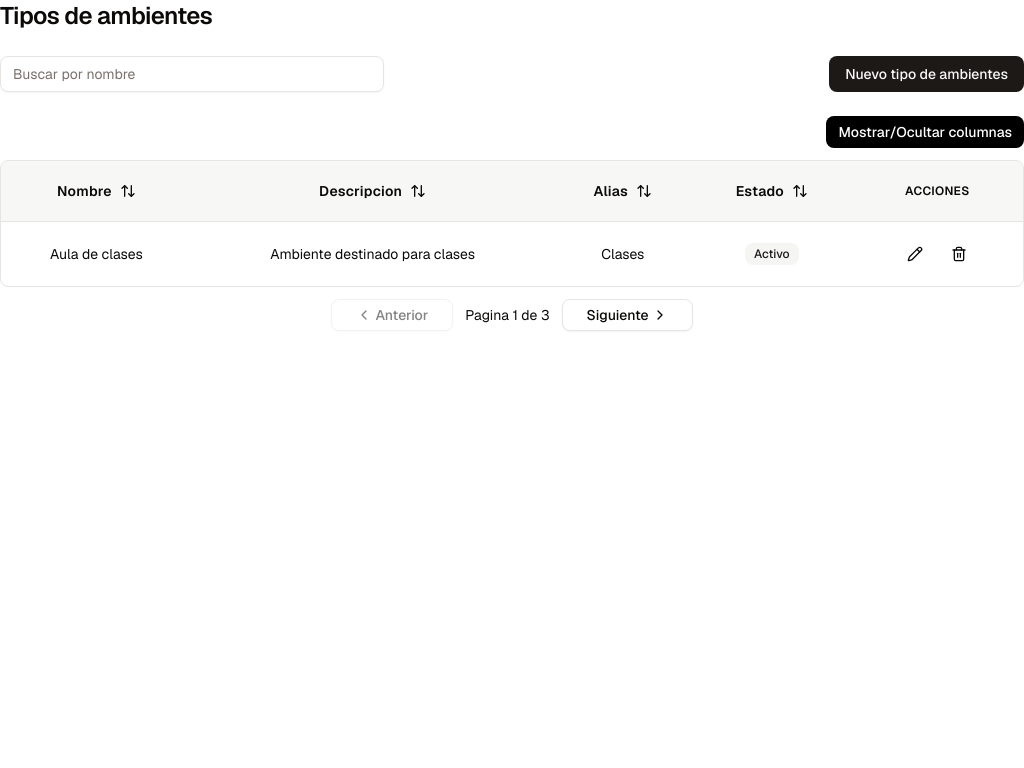
Test: EnvironmentTypeListPage › permite actualizar un tipo de ambiente desde el modal de edicion
Expected: the text "Aula de clases" is shown, [50,245,143,263]
Note: Abrimos el modal de edicion.
Click the button named "editar tipo de ambiente" at (915, 254), box [897,236,933,272]
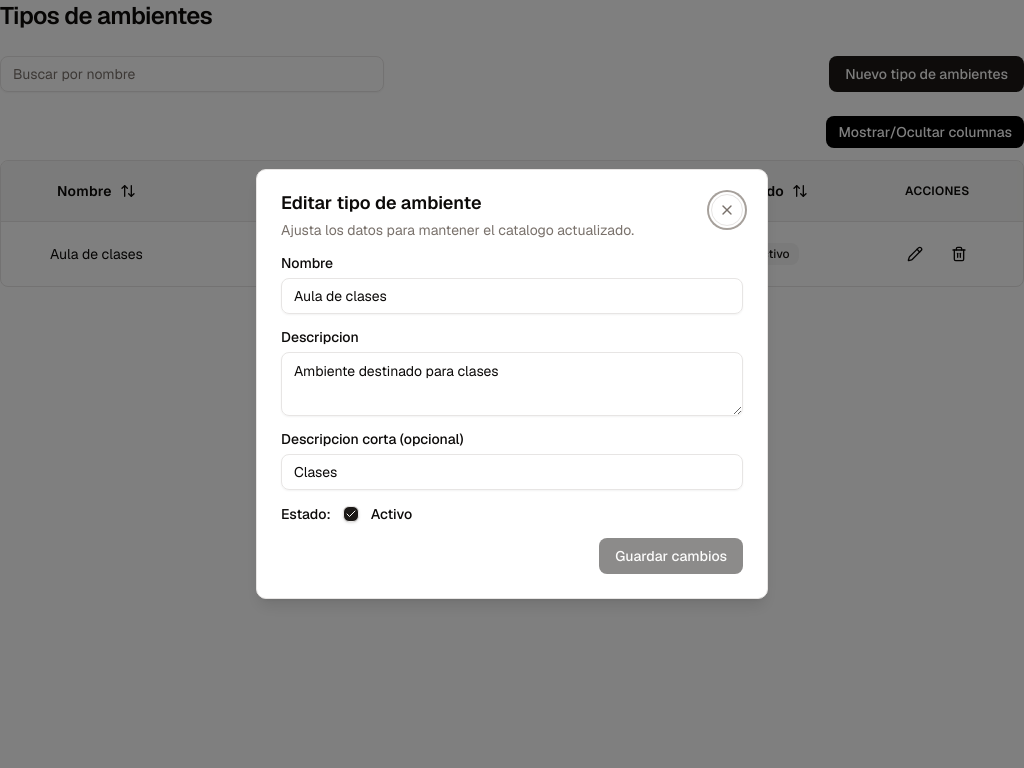
Expected: the heading "Editar tipo de ambiente" is shown, [281,191,482,214]
Note: Ajustamos los campos para reflejar los cambios requeridos.
Replace the text in the field labelled "Nombre" with "Aula multimedia" at (512, 296), box [281,278,743,314]
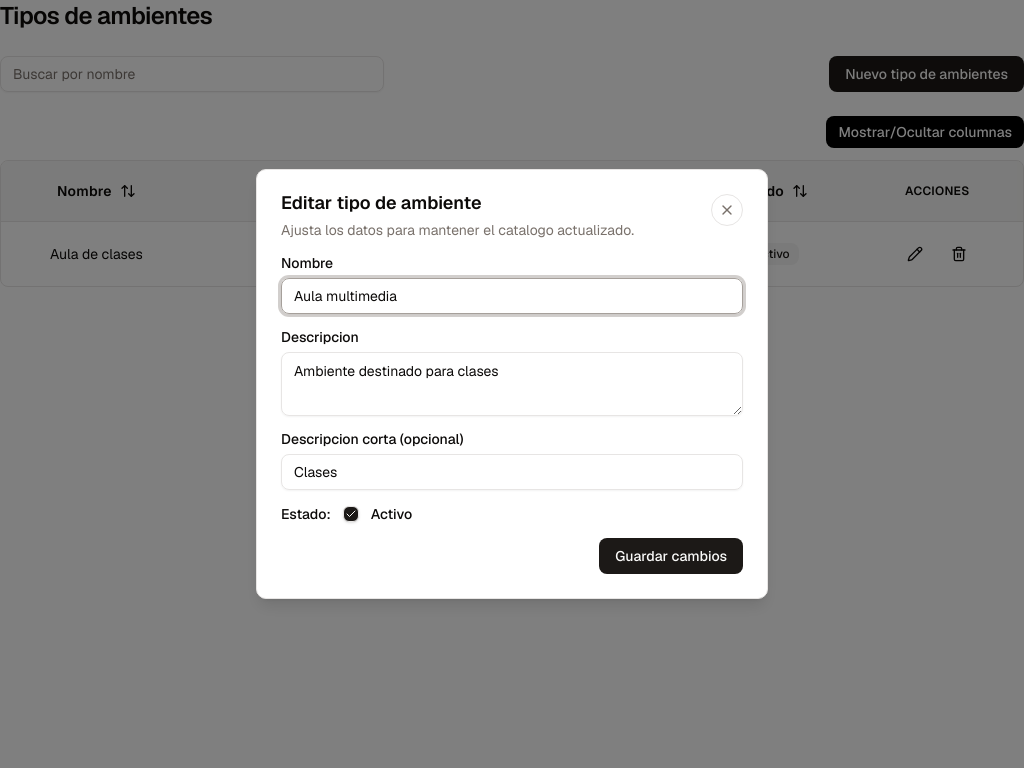
Replace the text in the text box labelled "Descripcion" with "Espacios equipados con herramientas multimedia." at (512, 384), box [281,352,743,416]
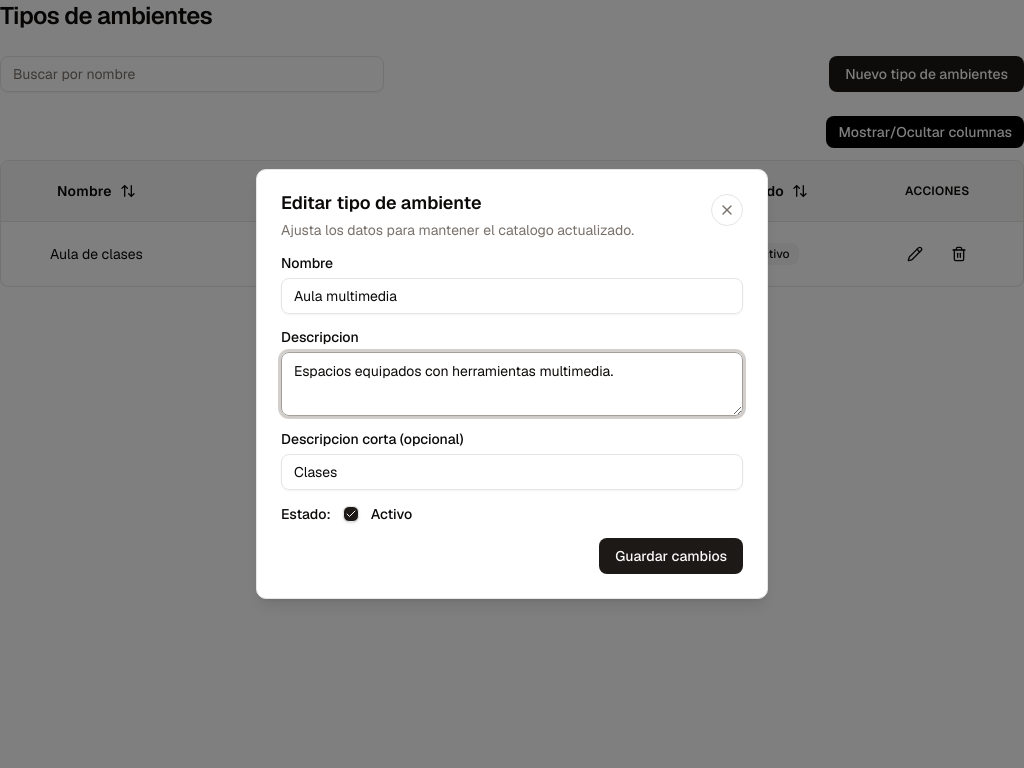
Replace the text in the field labelled "Descripcion corta (opcional)" with "Multimedia" at (512, 472), box [281,454,743,490]
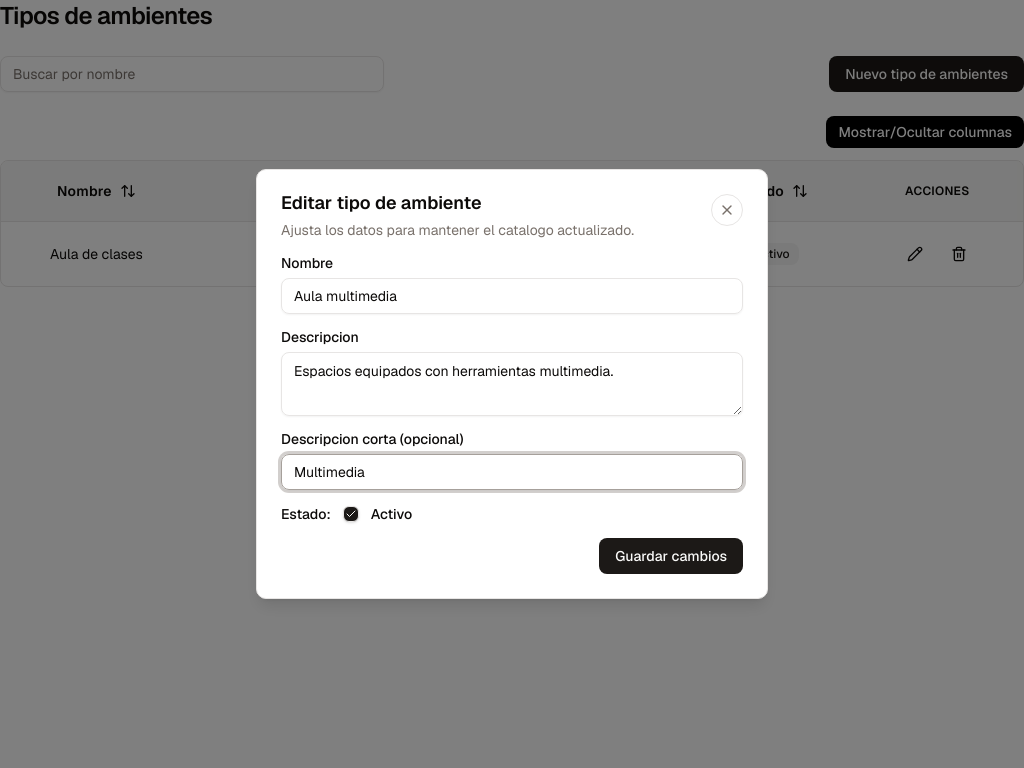
Note: Desactivamos el registro para probar el cambio en el estado.
Click the checkbox named "activo" at (351, 514), box [343,506,359,522]
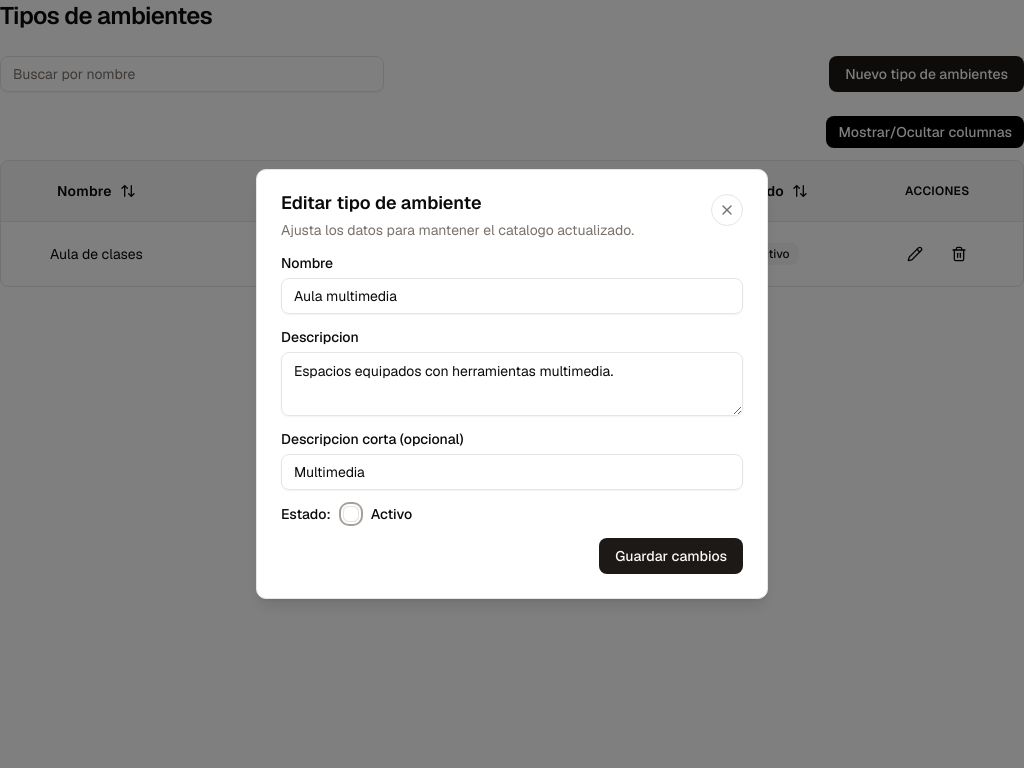
Note: Enviamos el formulario.
Click the button "Guardar cambios" at (671, 556), box [599,538,743,574]
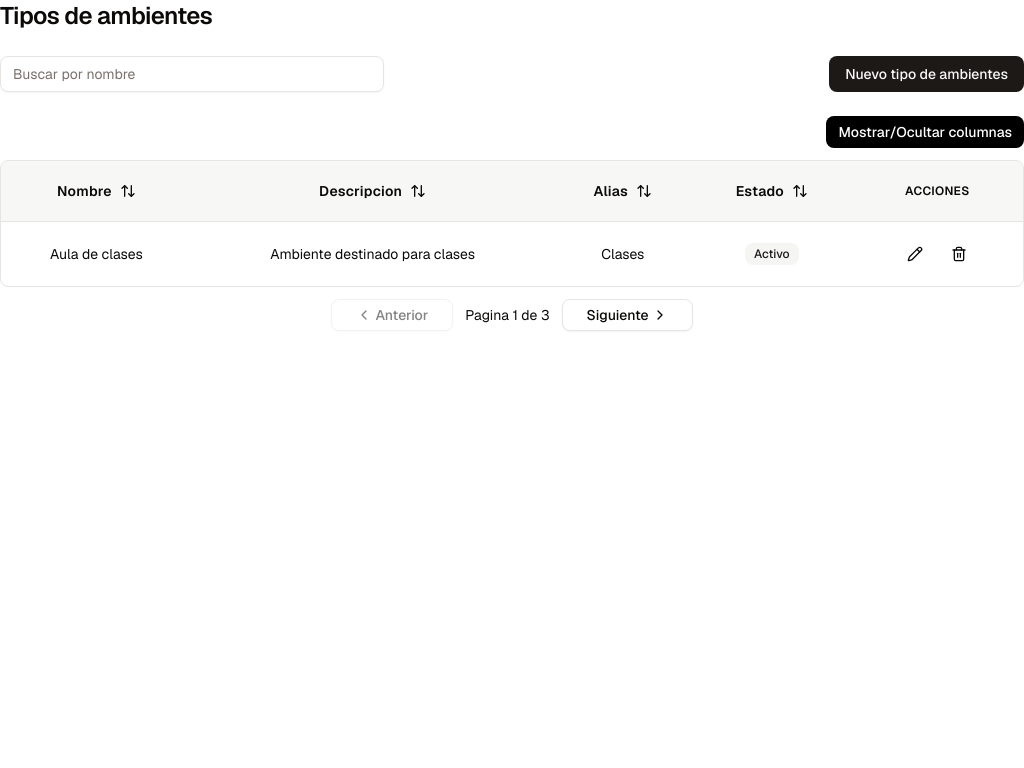
Expected: the heading "Editar tipo de ambiente" is gone
